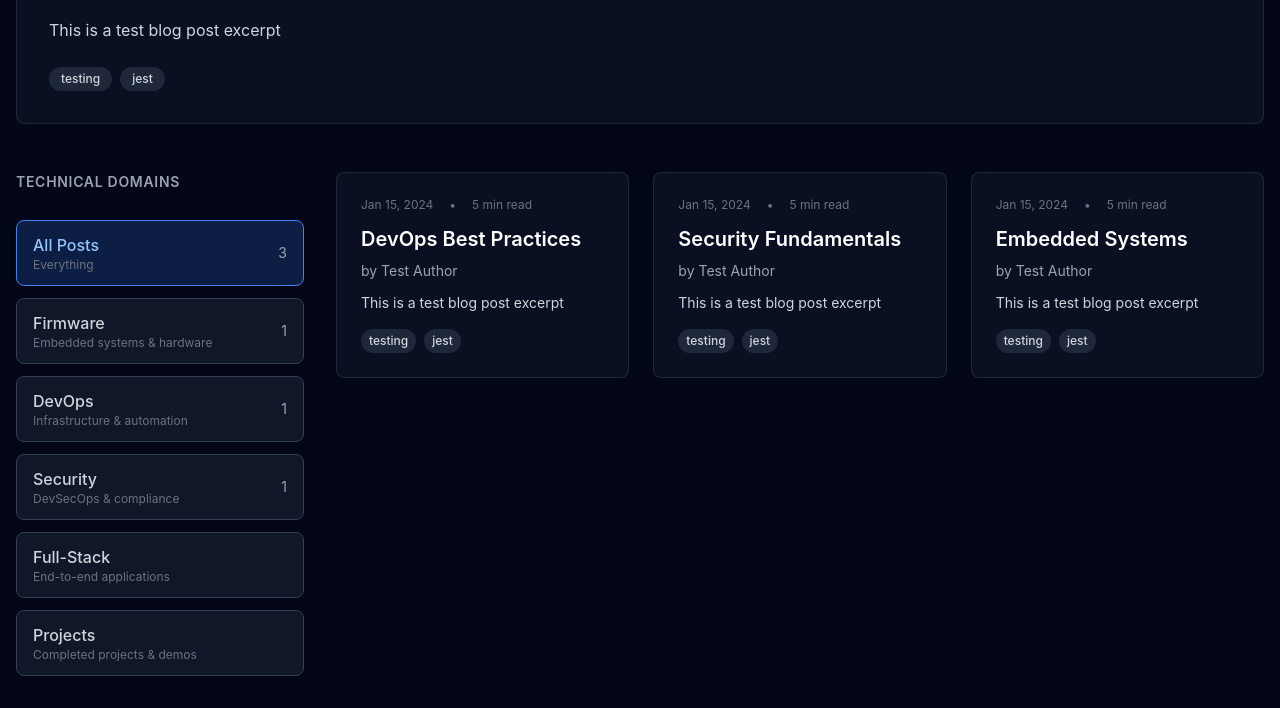
BlogLayout Domain Filtering › Filtering Behavior › shows all posts when All Posts is selected after filtering
(page scrolled)
Note: First filter by Security
What coordinates should you click on to do the following:
click the button "Security DevSecOps & compliance 1"
I would click on:
 (65, 479)
Its box is [16, 454, 304, 520].
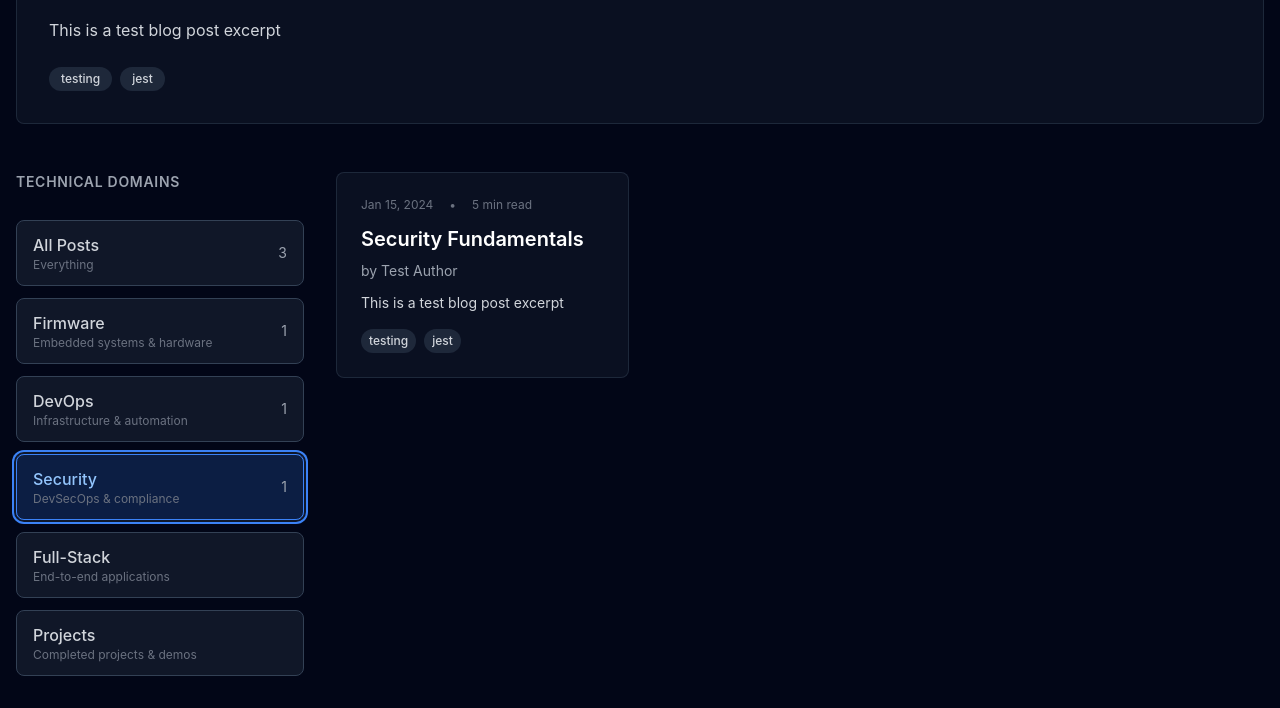
Expected: the heading "Security Fundamentals" is shown, [361, 225, 604, 253]
Now the link "DevOps Best Practices" is gone
Note: Then click All Posts
What coordinates should you click on to do the following:
click the button "All Posts Everything 3"
I would click on:
 (66, 245)
Its box is [16, 220, 304, 286].
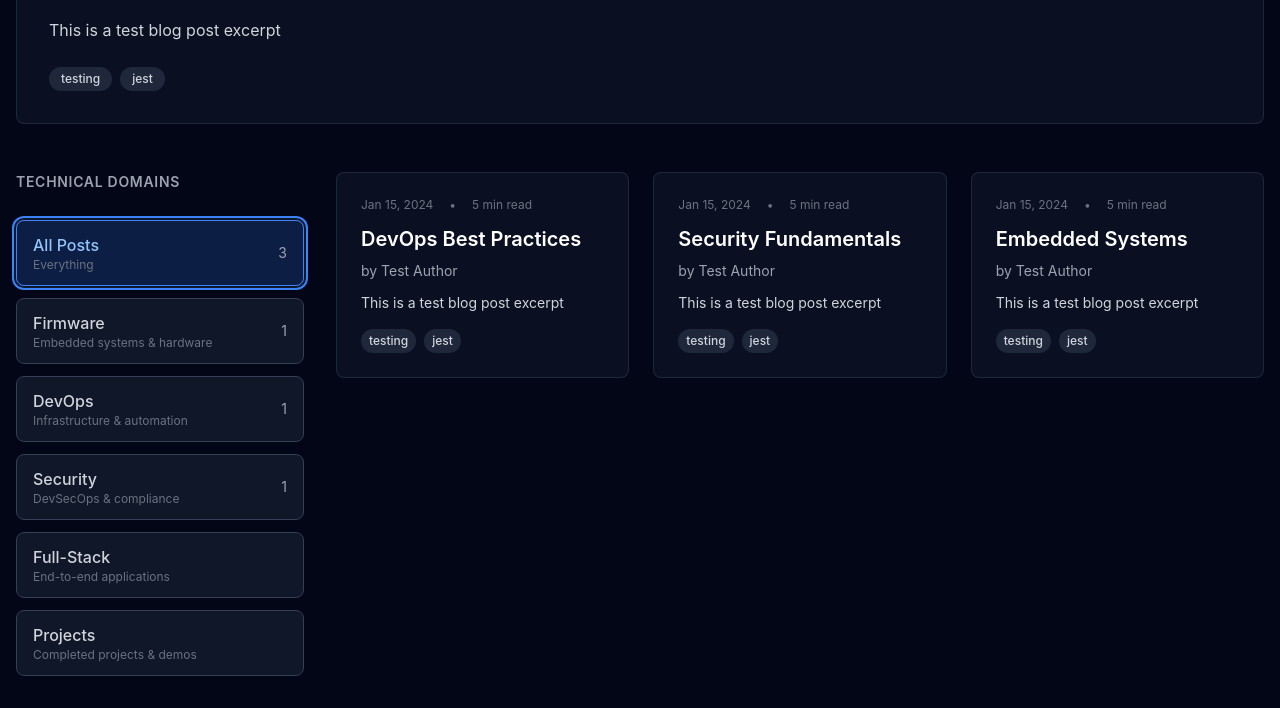
Expected: the heading "Security Fundamentals" is shown, [678, 225, 922, 253]
Now the heading "DevOps Best Practices" is shown, box [361, 225, 604, 253]
Now the heading "Embedded Systems" is shown, box [996, 227, 1188, 251]
